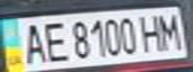0: (118, 13, 142, 55), (103, 15, 124, 56)
1: (87, 16, 106, 58)
8: (66, 17, 90, 61)
A: (15, 19, 51, 65)
E: (39, 18, 72, 63)
H: (136, 11, 166, 53)
M: (154, 10, 184, 52)
